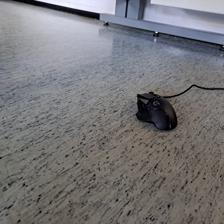mouse: (134, 90, 179, 132)
